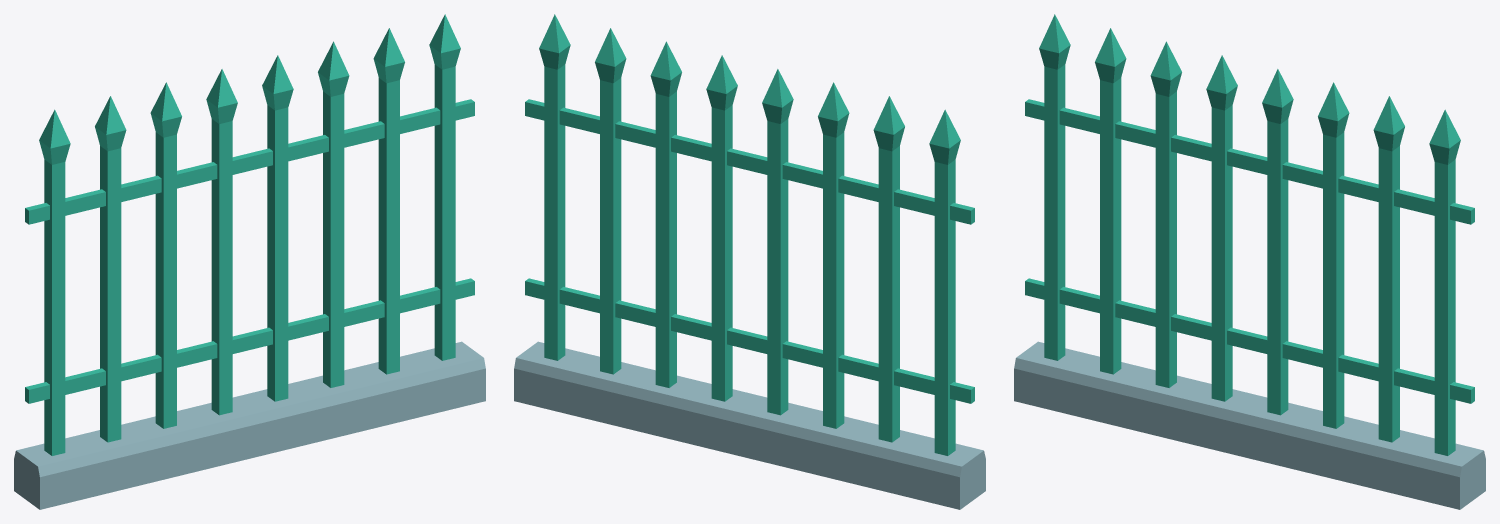
File: ironFenceBorder.obj
3 views of the same model, side by side, from view 1: azimuth 30°, elevation 25°; view 2: azimuth 150°, elevation 25°; view 3: azimuth 330°, elevation 25° (orthographic).
Parts seen in each view (by area): view 1: ironFenceBorder; view 2: ironFenceBorder; view 3: ironFenceBorder.
Part boxes in pixels (x1=…): ironFenceBorder: x1=14, y1=14, x2=485, y2=509; ironFenceBorder: x1=514, y1=14, x2=985, y2=509; ironFenceBorder: x1=1014, y1=14, x2=1485, y2=509.
Size of the model in its own units: 1 by 0.8239 by 0.1.
